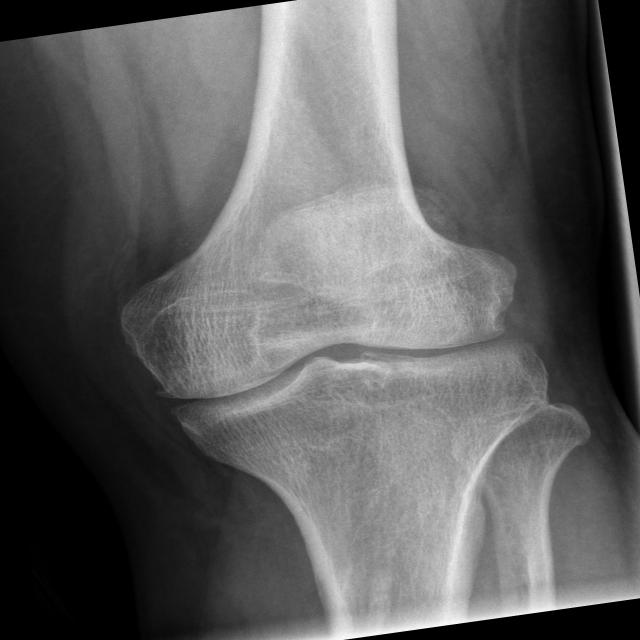Knee: (114, 223, 556, 489)
